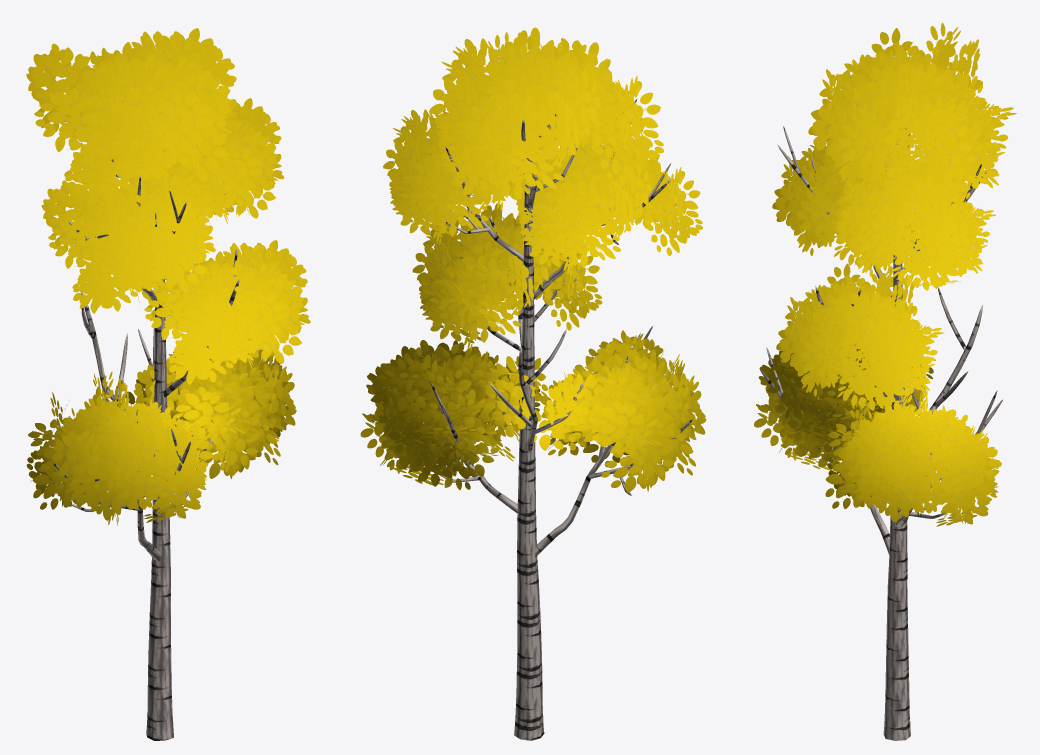
File: BirchTree_2.glb
3 views of the same model, side by side, from view 1: azimuth 30°, elevation 25°; view 2: azimuth 150°, elevation 25°; view 3: azimuth 270°, elevation 25° (orthographic). The views are drawn at different scales.
Parts seen in each view (by area): view 1: BirchTree_2; view 2: BirchTree_2; view 3: BirchTree_2.
Part boxes in pixels (x1,y1,x2,y2): BirchTree_2: [26, 28, 310, 740]; BirchTree_2: [360, 27, 706, 740]; BirchTree_2: [754, 22, 1016, 740].
Size of the model in its own units: 3.35 by 7.57 by 2.81.
2 materials, 2 textured.
